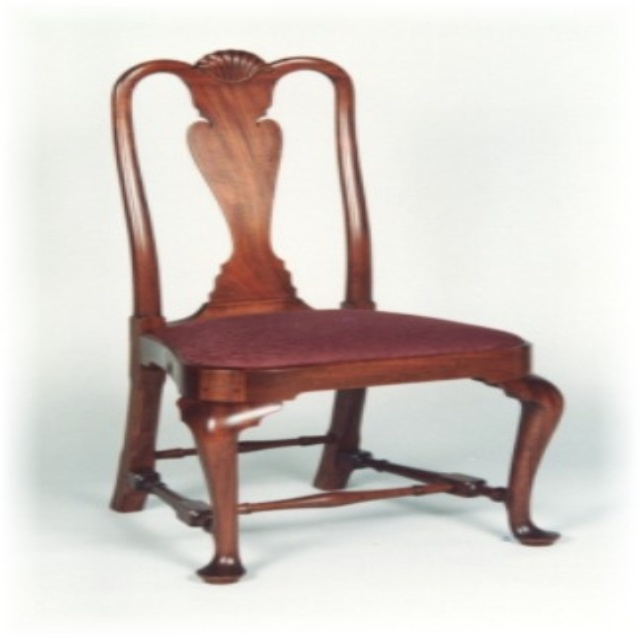obstacle: (111, 50, 561, 582)
